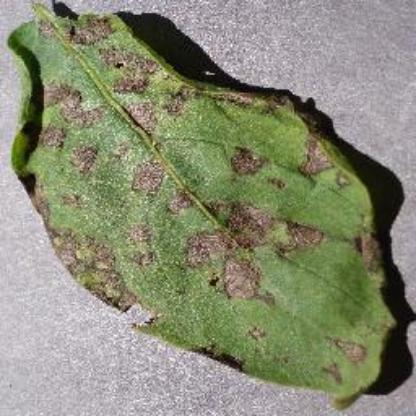Early-Blight: (7, 2, 401, 404)
